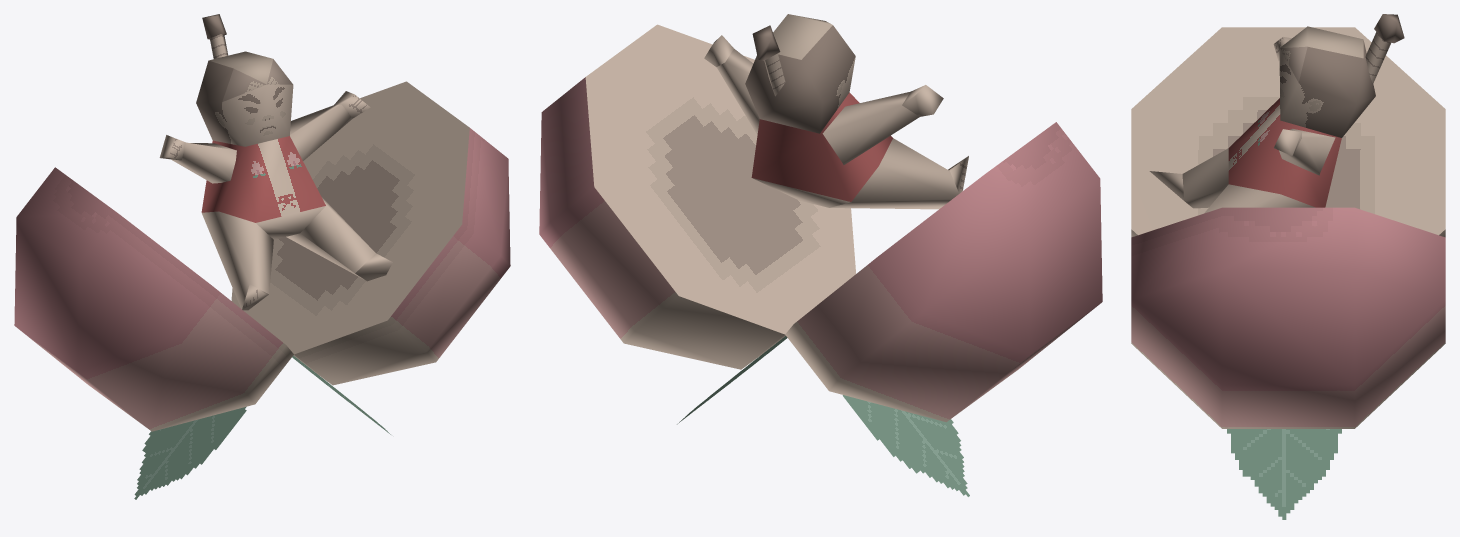
The model's file is 03f3_Momotaro.glb.
3 views of the same model, side by side, from view 1: azimuth 30°, elevation 25°; view 2: azimuth 150°, elevation 25°; view 3: azimuth 270°, elevation 25° (orthographic). The views are drawn at different scales.
Parts seen in each view (by area): view 1: part_0; view 2: part_0; view 3: part_0.
Part boxes in pixels (x1,y1,x2,y2): part_0: (14,14,510,499); part_0: (539,14,1102,496); part_0: (1131,14,1445,519).
Bounding box in the file's own units: 0.6363 × 0.5895 × 0.38.
1 material, 1 textured.
